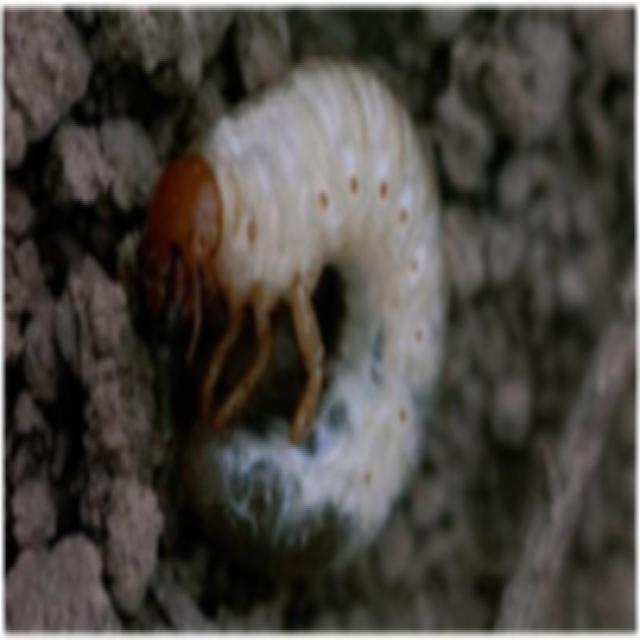grub: (154, 51, 454, 546)
